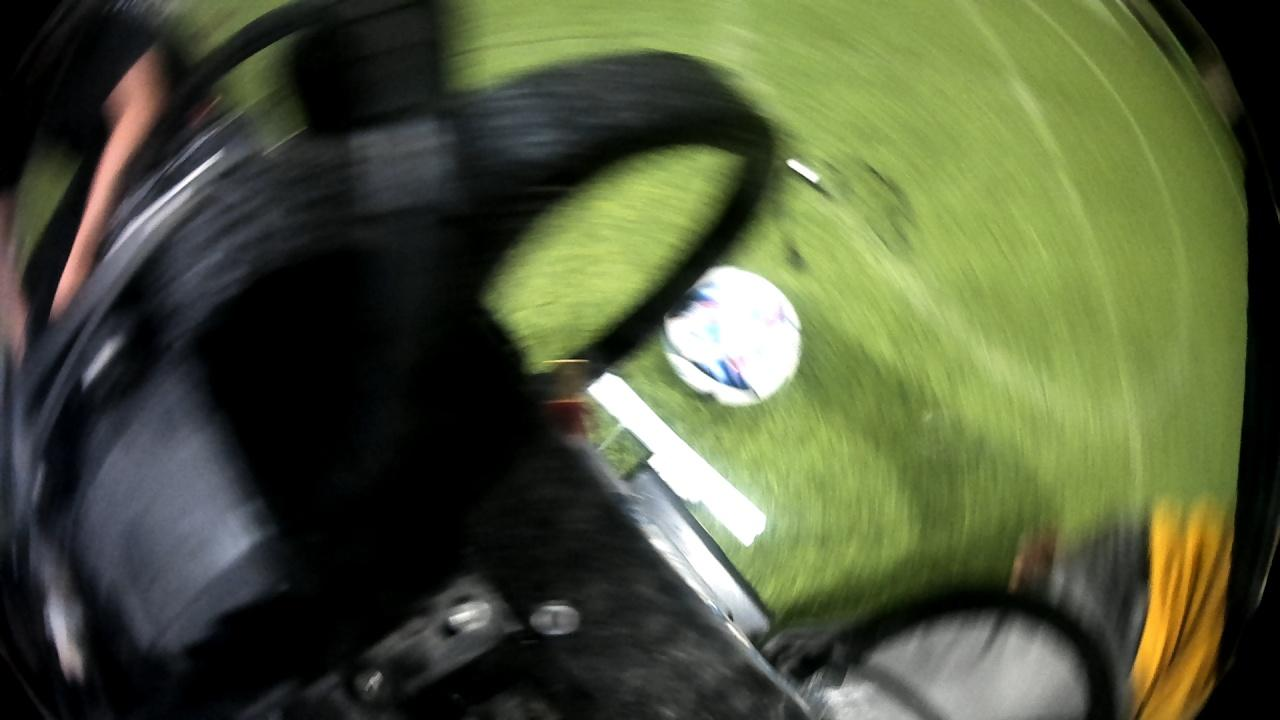ball: (657, 263, 807, 412)
